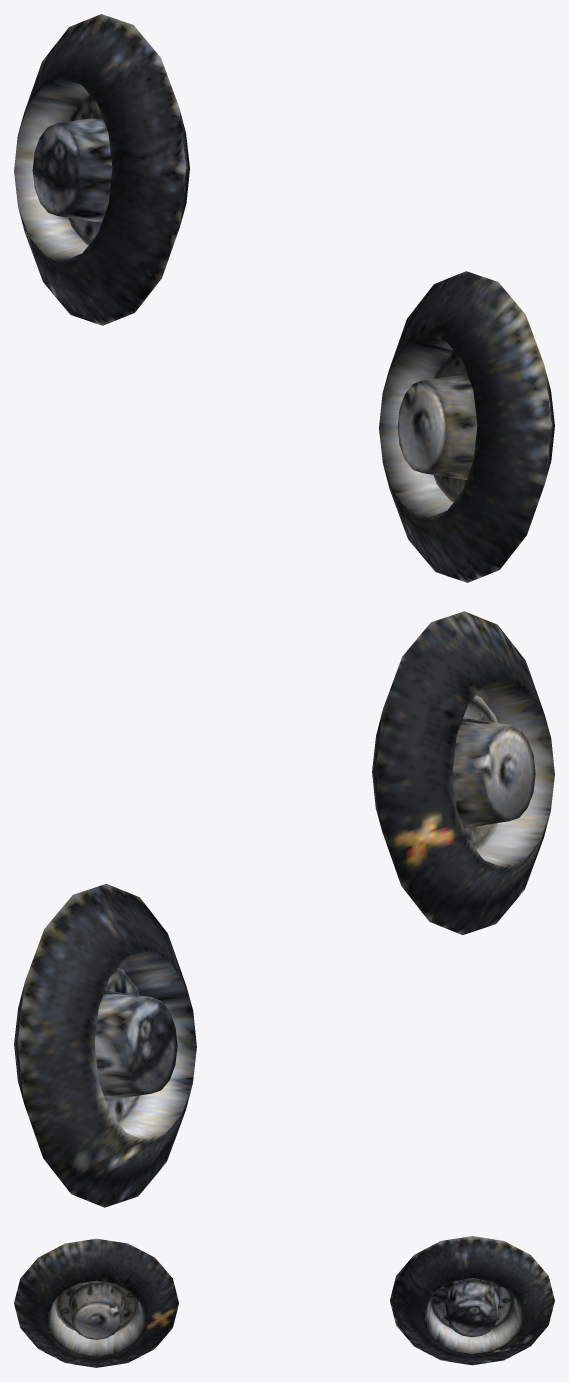
File: Motorcycle paksoi wheels.fbx
3 views of the same model, one above another, from view 1: azimuth 30°, elevation 25°; view 2: azimuth 150°, elevation 25°; view 3: azimuth 270°, elevation 25° (orthographic). The views are drawn at different scales.
Visible parts, largest first — view 1: Cube.579, Cube.578; view 2: Cube.578, Cube.579; view 3: Cube.578, Cube.579.
Part boxes in pixels (x1,y1,x2,y2): Cube.579: (14,14,189,325); Cube.578: (379,271,554,582); Cube.578: (372,611,554,935); Cube.579: (14,883,196,1207); Cube.578: (14,1238,178,1367); Cube.579: (390,1236,554,1365).
Size of the model in its own units: 23.1 by 48.66 by 164.
